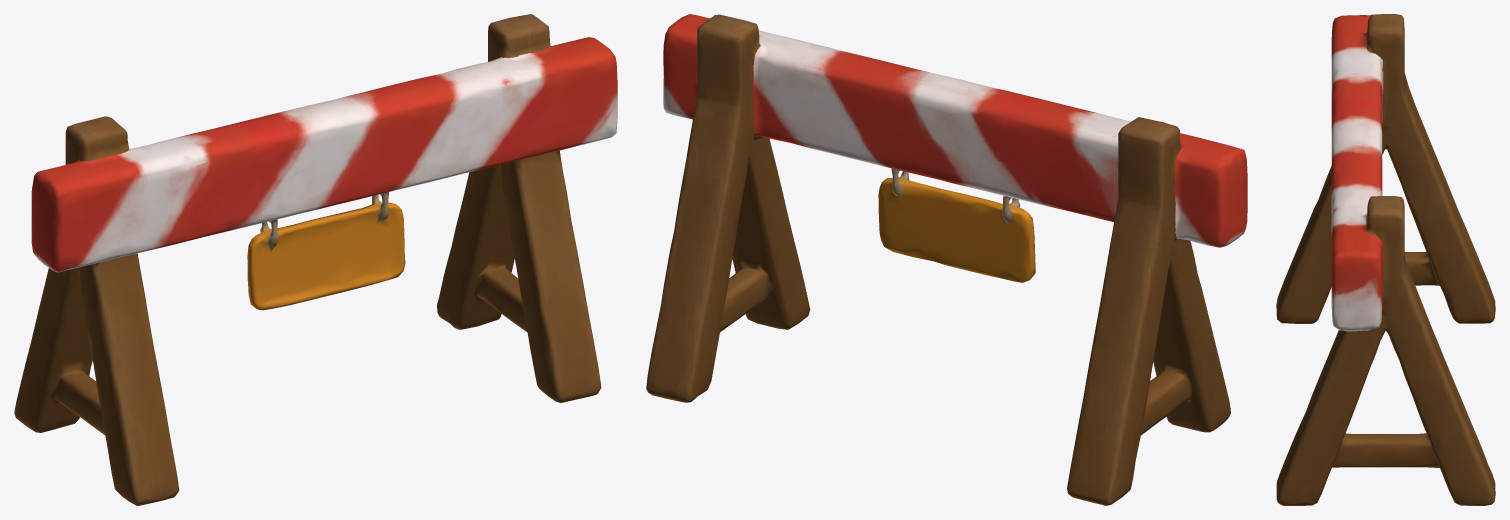
The model's file is roadblock.glb.
3 renders of one model, left to right at view 1: azimuth 30°, elevation 25°; view 2: azimuth 150°, elevation 25°; view 3: azimuth 270°, elevation 25°, orthographic. The views are drawn at different scales.
Size of the model in its own units: 1 by 0.5679 by 0.3815.
1 material, 1 textured.
